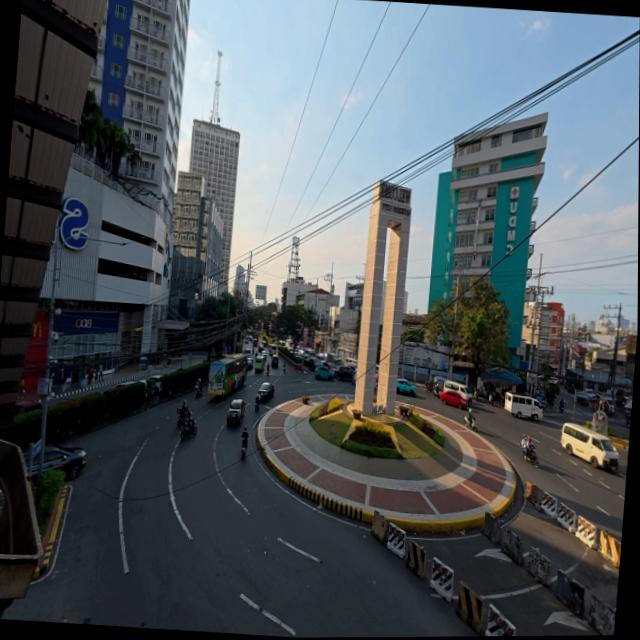bus: (207, 354, 246, 395)
car: (43, 446, 85, 479), (439, 391, 466, 409), (226, 399, 244, 424), (14, 401, 41, 415), (395, 378, 415, 395), (143, 375, 160, 393), (257, 382, 273, 401), (335, 365, 354, 381), (313, 366, 333, 380), (113, 380, 136, 389), (321, 362, 336, 375), (304, 357, 317, 371), (270, 353, 279, 368), (346, 362, 356, 372), (629, 421, 636, 435), (246, 356, 252, 370), (252, 337, 258, 347), (373, 374, 378, 383)
motorcycle: (523, 446, 538, 467), (180, 421, 196, 439), (463, 414, 478, 431), (176, 408, 182, 427), (241, 439, 247, 457), (472, 388, 480, 400), (194, 385, 201, 398), (425, 381, 432, 393), (557, 402, 564, 414), (254, 401, 259, 411), (282, 364, 285, 373), (266, 365, 268, 375)
trucks: (325, 353, 341, 366)
vans: (560, 424, 618, 469), (504, 393, 541, 420), (443, 381, 471, 405), (344, 358, 356, 367), (315, 354, 325, 363), (268, 344, 276, 355)
